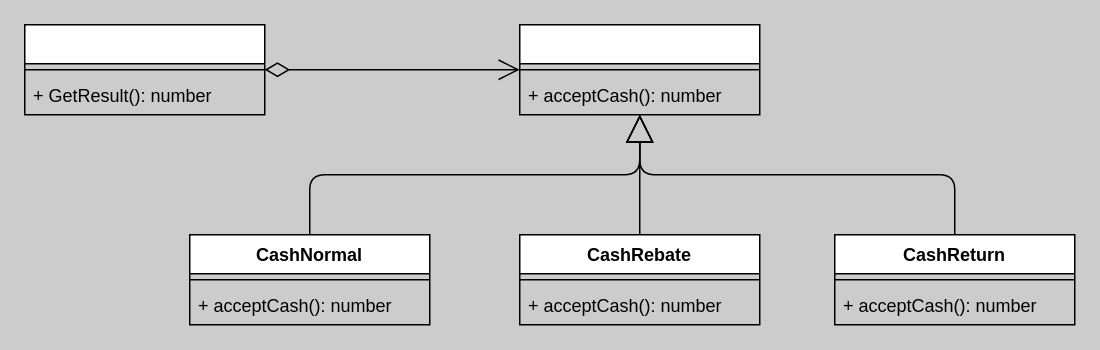
Some shapes in this 1100 by 350 pixel diagram are drawn without their labels. Each missing label, with the box of its shape:
CashContext: (23, 23, 265, 115)
CashSuper: (518, 23, 760, 115)
